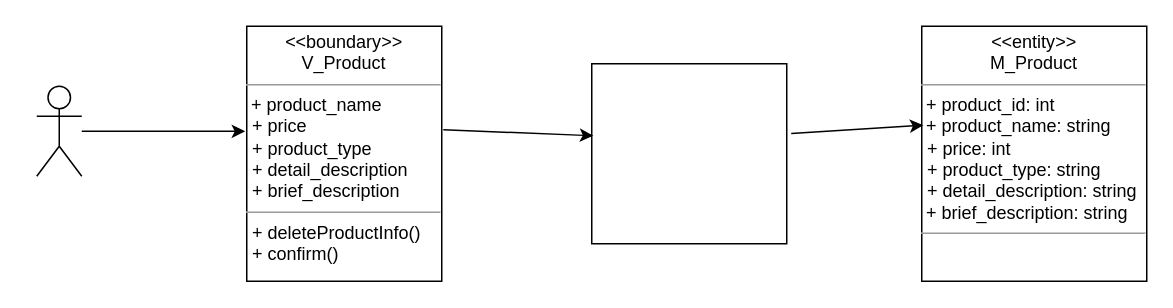
Image size: 1173x308. Some labels were removed from this diagram. The centre of each missing label's shape, as x and y in pixels:
< <control >> C_Product + confirmDelete() + deleteProduction(): point (688, 153)
Provider: point (58, 130)
